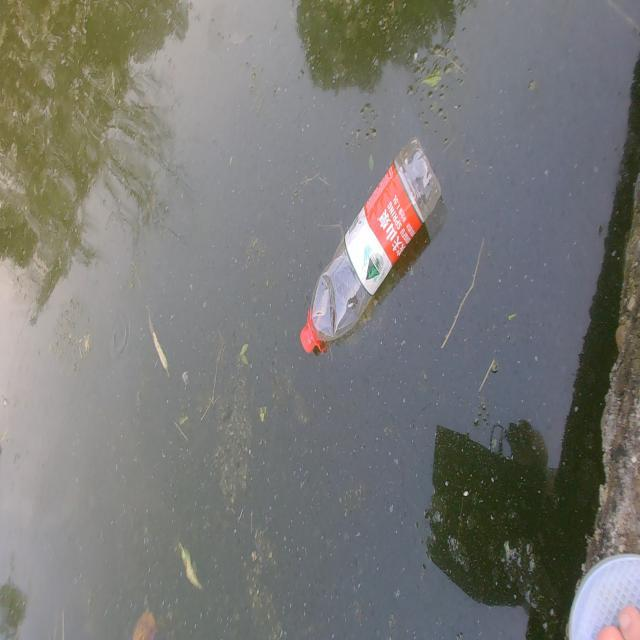bottle: (268, 127, 458, 364)
